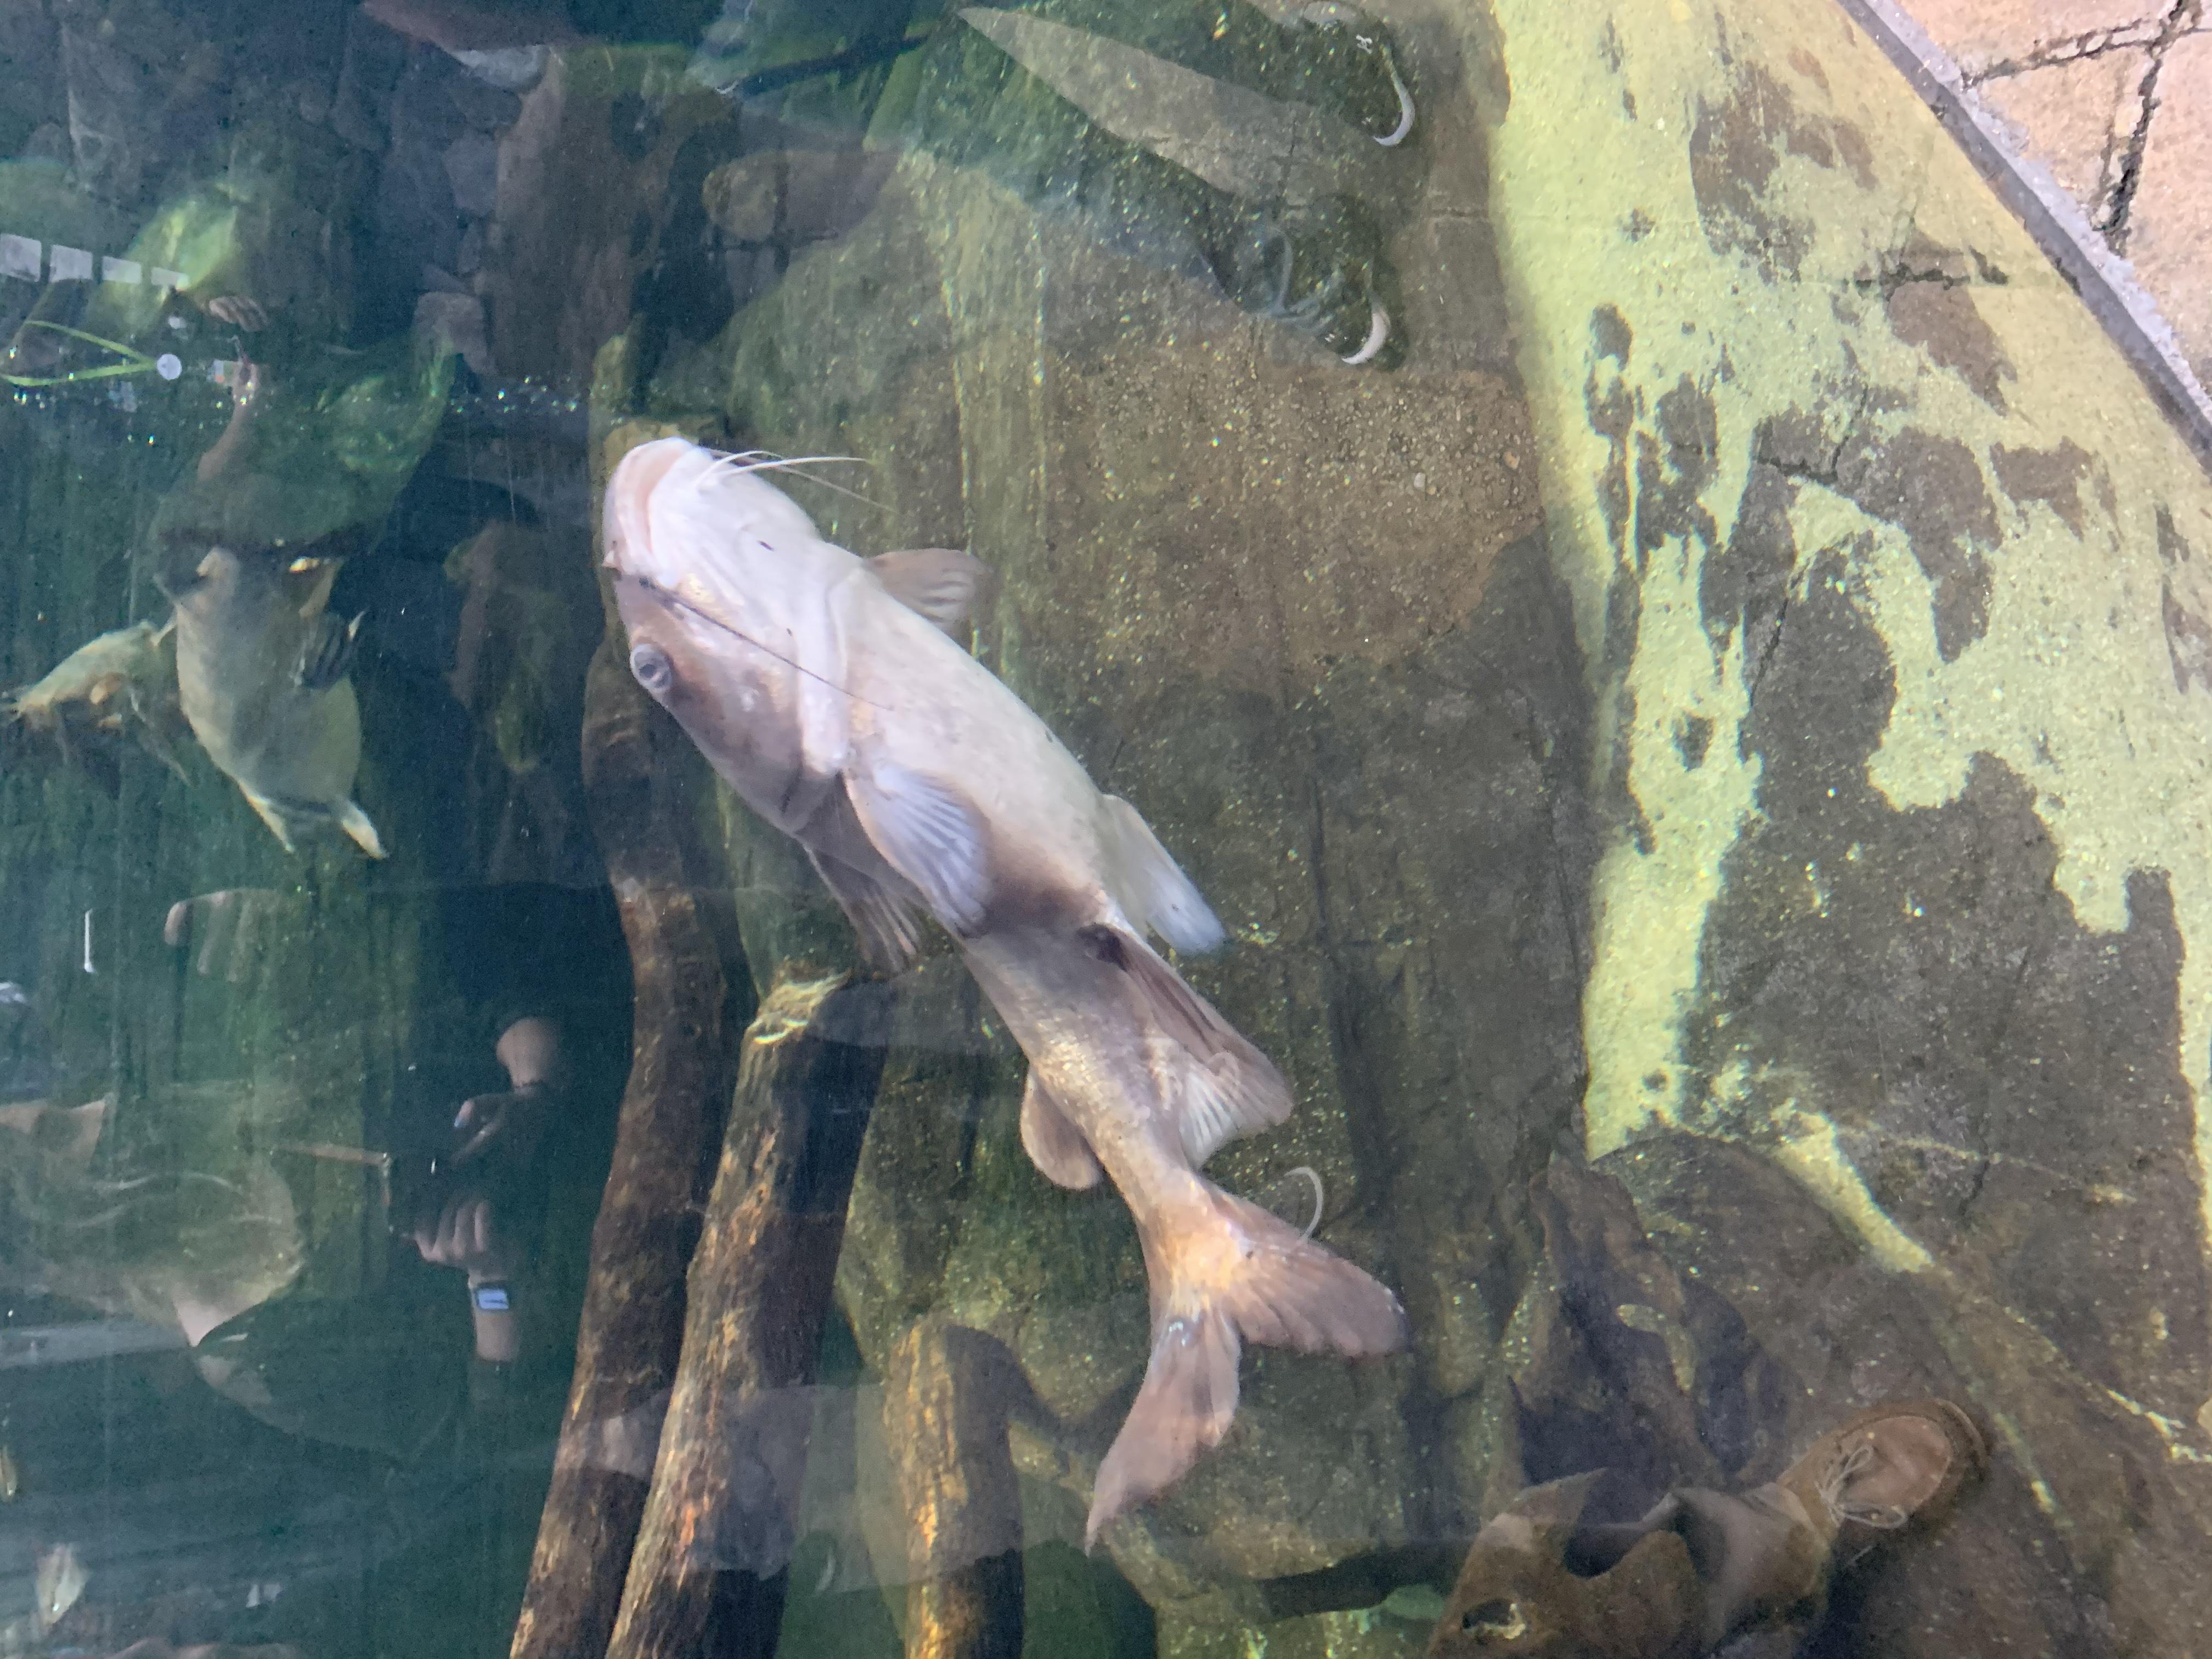fish: (603, 439, 1426, 1558), (843, 404, 1069, 749)
